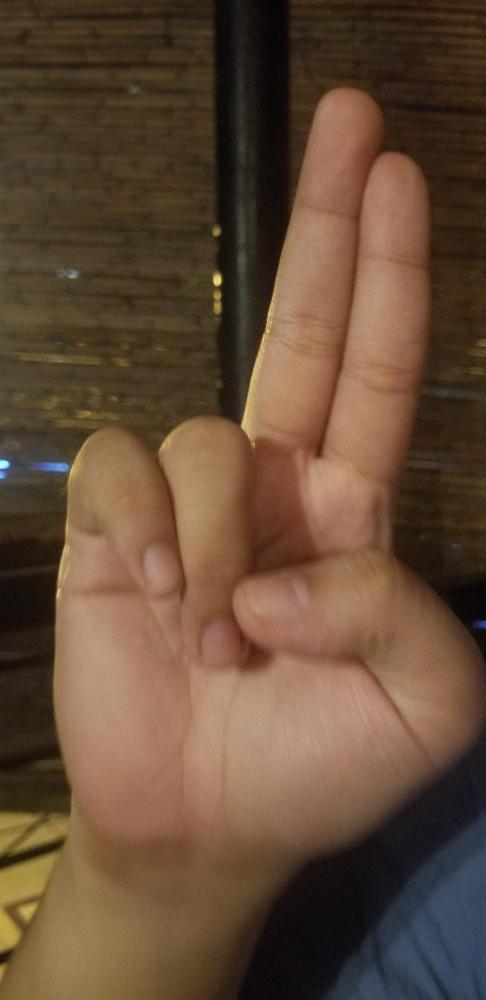u: (47, 80, 485, 844)
